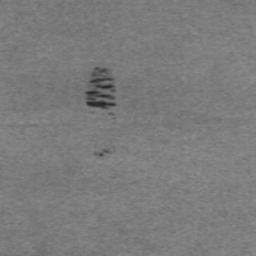Secondary rust skin: (84, 66, 117, 110)
